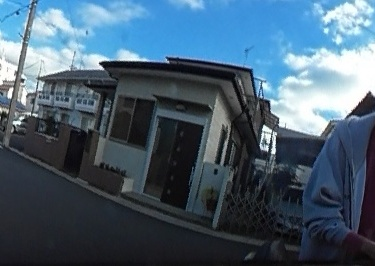person: (300, 44, 375, 255)
